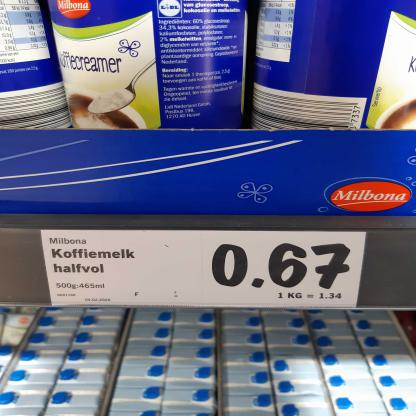prtg: (42, 230, 368, 307)
